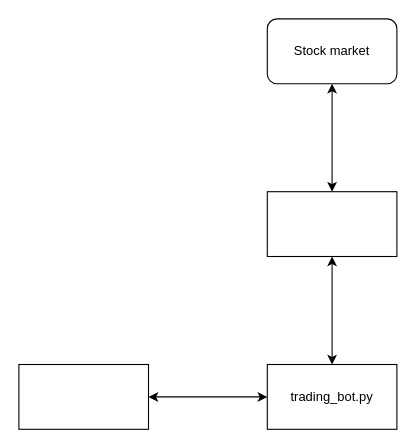
Image size: 416x448. Some labels were removed from this diagram. Each missing label, with the centre of its shape:
Historical stock data: [83,396]
IBKR API: [331,223]
